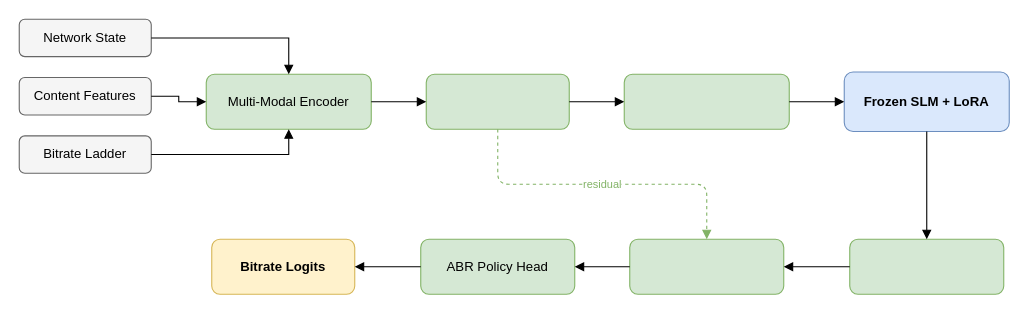
Some shapes in this 1029 by 314 pixel diagram are drawn without their labels. Each missing label, with the box of its shape:
Feature Fusion: (425, 73, 569, 129)
Residual Fusion: (629, 238, 784, 294)
Soft-Token Projection: (623, 73, 789, 129)
Token Mean-Pool: (849, 238, 1004, 294)
